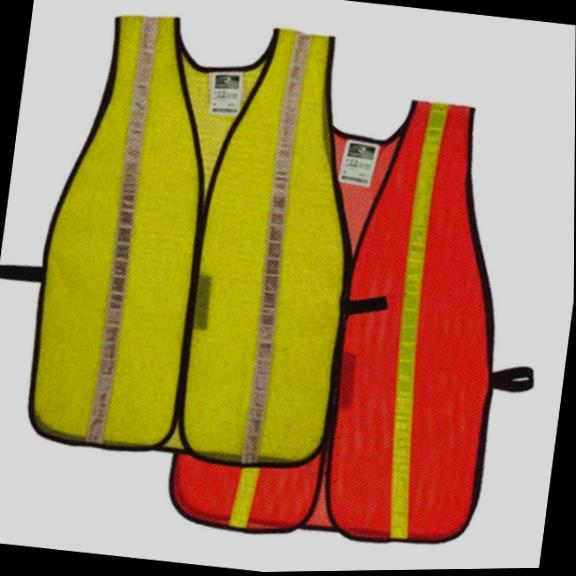safety_vest: (162, 71, 530, 556), (20, 0, 382, 478)
